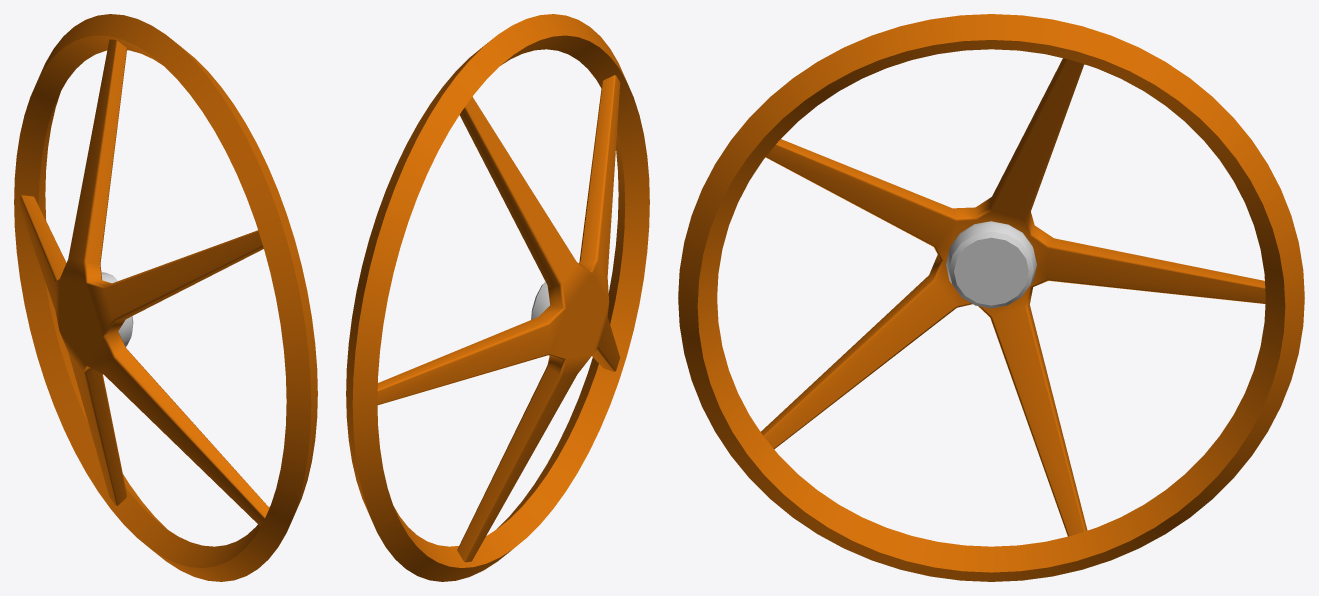
File: SM_Valve.fbx
3 views of the same model, side by side, from view 1: azimuth 30°, elevation 25°; view 2: azimuth 150°, elevation 25°; view 3: azimuth 270°, elevation 25° (orthographic). The views are drawn at different scales.
Visible parts, largest first — view 1: valveInner; view 2: valveInner; view 3: valveInner.
Boxes of the visible parts, <box> form: valveInner: <box>14,14,317,581</box>; valveInner: <box>346,14,649,581</box>; valveInner: <box>678,14,1304,581</box>.
Size of the model in its own units: 10.18 by 49.58 by 49.58.
